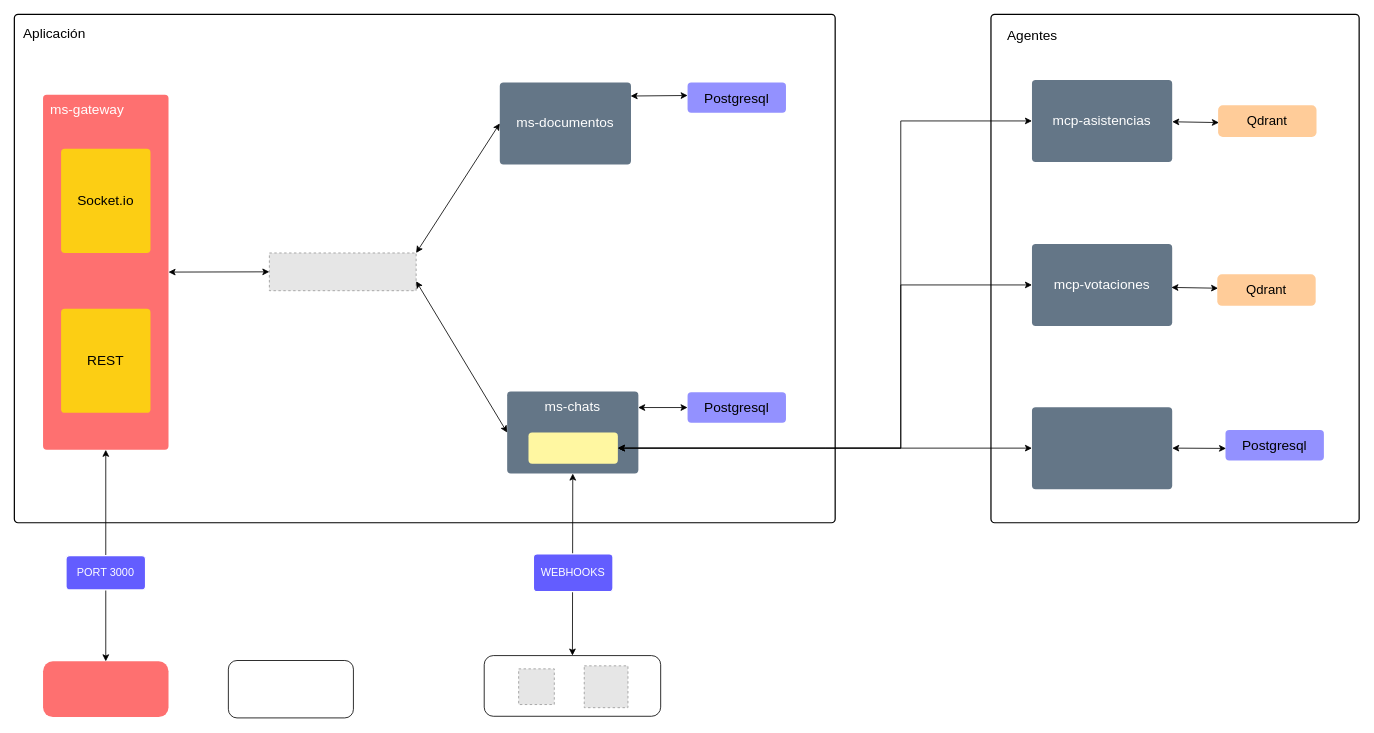
This 1374x733 diagram has some shape labels left out. Grey dashed boxes stand in for pictures. The shapes that lost their labels are listed below. From the top down, each one's centre as x and y in pixels, then its label:
At pixel 573 448: "LangGraph".
At pixel 1101 447: "mcp-contrataciones".
At pixel 105 688: "Clientes".
At pixel 290 689: "Nginx (Port 8080)".
